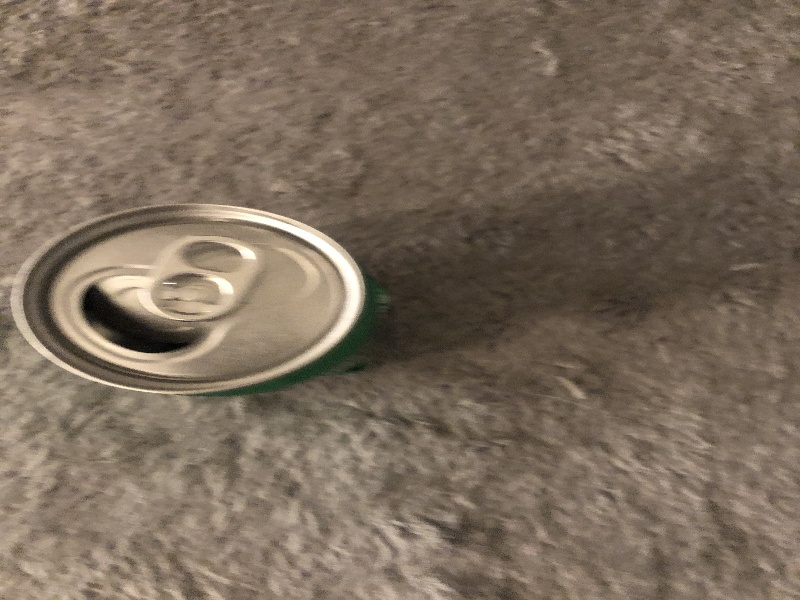metal: (5, 200, 399, 402)
